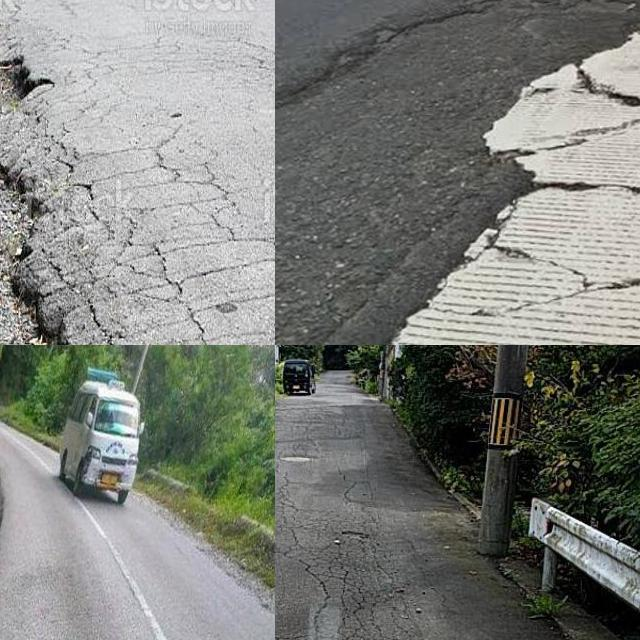Pinggir: (0, 0, 195, 345)
Retak Buaya: (291, 532, 434, 640)
Sambungan: (381, 29, 640, 345)
